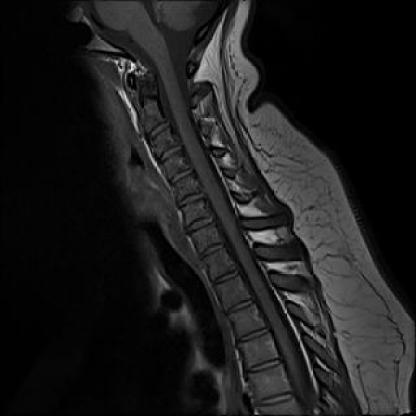Annular Disc Relaxationrotation: (174, 190, 207, 207), (165, 168, 197, 184)
